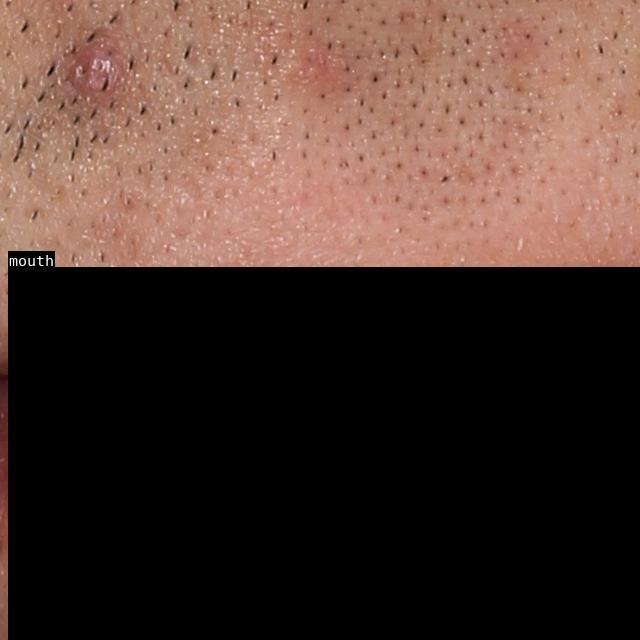papule: (59, 41, 122, 101)
